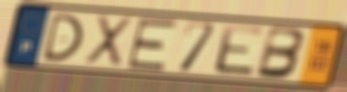7: (178, 20, 218, 74)
B: (253, 24, 309, 81)
D: (40, 12, 86, 63)
E: (124, 18, 181, 73), (212, 23, 267, 78)
X: (82, 13, 135, 70)
